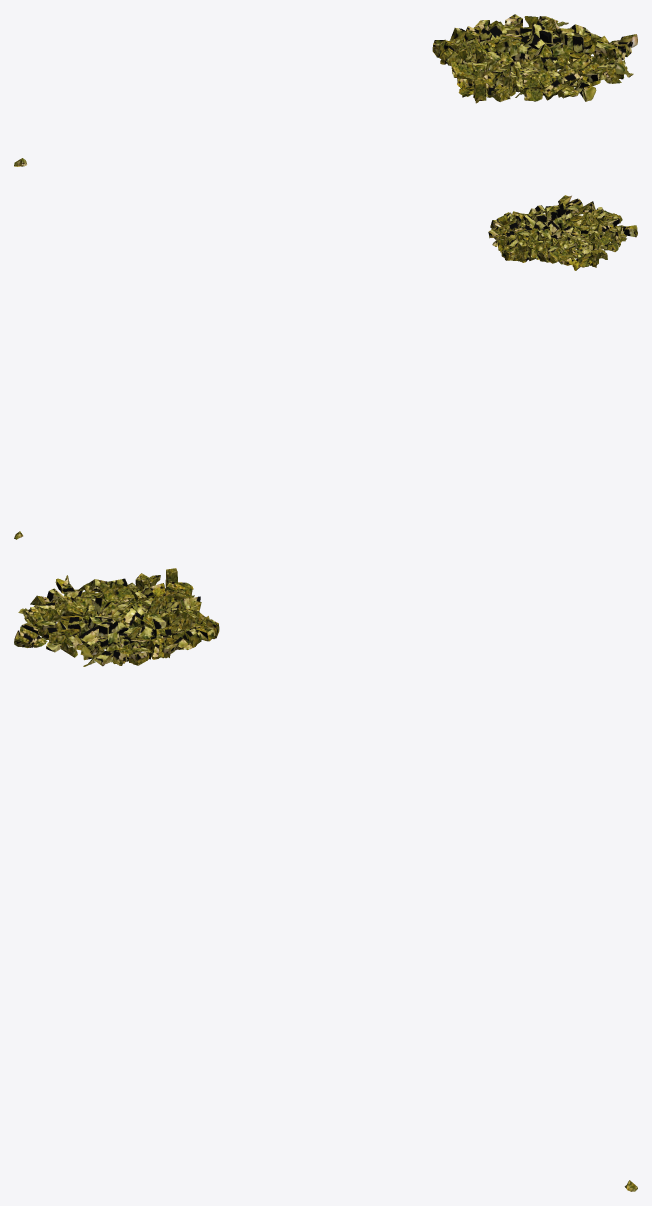
The model's file is Battered_Broccoli.obj.
3 renders of one model, top to bottom at view 1: azimuth 90°, elevation 25°; view 2: azimuth 150°, elevation 25°; view 3: azimuth 270°, elevation 25°, orthographic. The views are drawn at different scales.
Visible parts, largest first — view 1: Battered_Broccoli_broccoli; view 2: Battered_Broccoli_broccoli; view 3: Battered_Broccoli_broccoli.
Boxes of the visible parts, x1,y1,x2,y2 form: Battered_Broccoli_broccoli: (14, 14, 637, 166); Battered_Broccoli_broccoli: (14, 195, 637, 539); Battered_Broccoli_broccoli: (14, 568, 637, 1191).
Size of the model in its own units: 8.06 by 4.86 by 7.77.
1 material, 1 textured.
